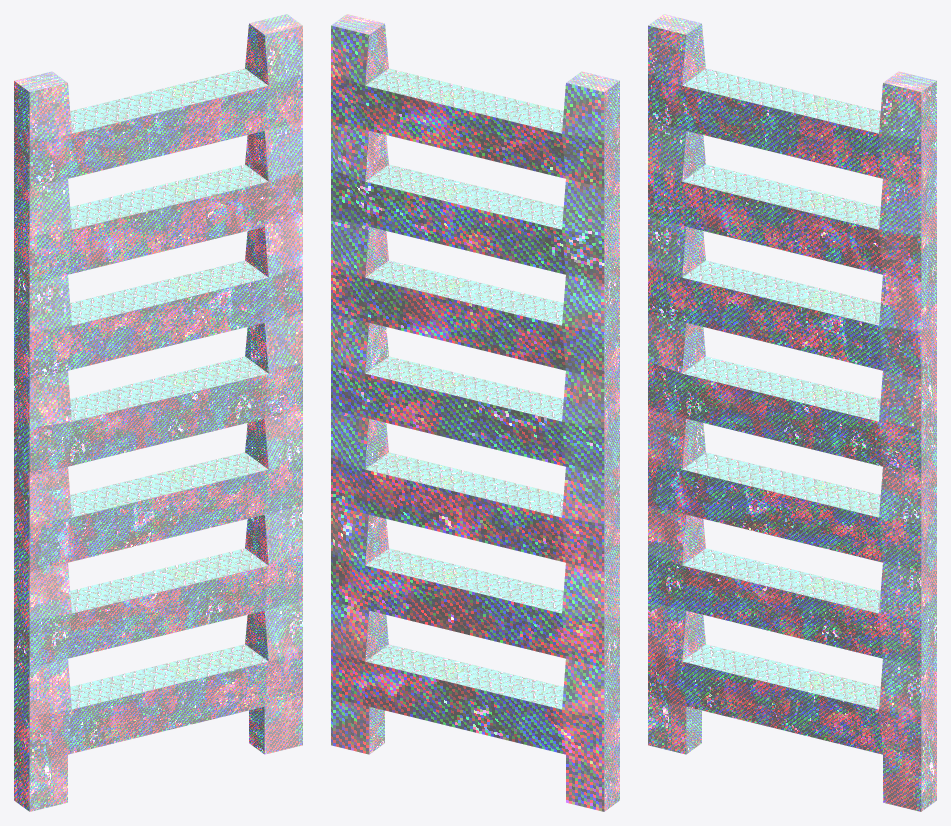
Rendered from urn_ladder.glb.
The picture shows the model from 3 angles, left to right: view 1: azimuth 30°, elevation 25°; view 2: azimuth 150°, elevation 25°; view 3: azimuth 330°, elevation 25°; orthographic projection.
Visible parts, largest first — view 1: Urn_Ladder; view 2: Urn_Ladder; view 3: Urn_Ladder.
Part boxes in pixels (x1,y1,x2,y2): Urn_Ladder: (14, 14, 302, 811); Urn_Ladder: (331, 14, 619, 811); Urn_Ladder: (648, 14, 936, 811).
Bounding box in the file's own units: 2 × 5.03 × 0.3.
